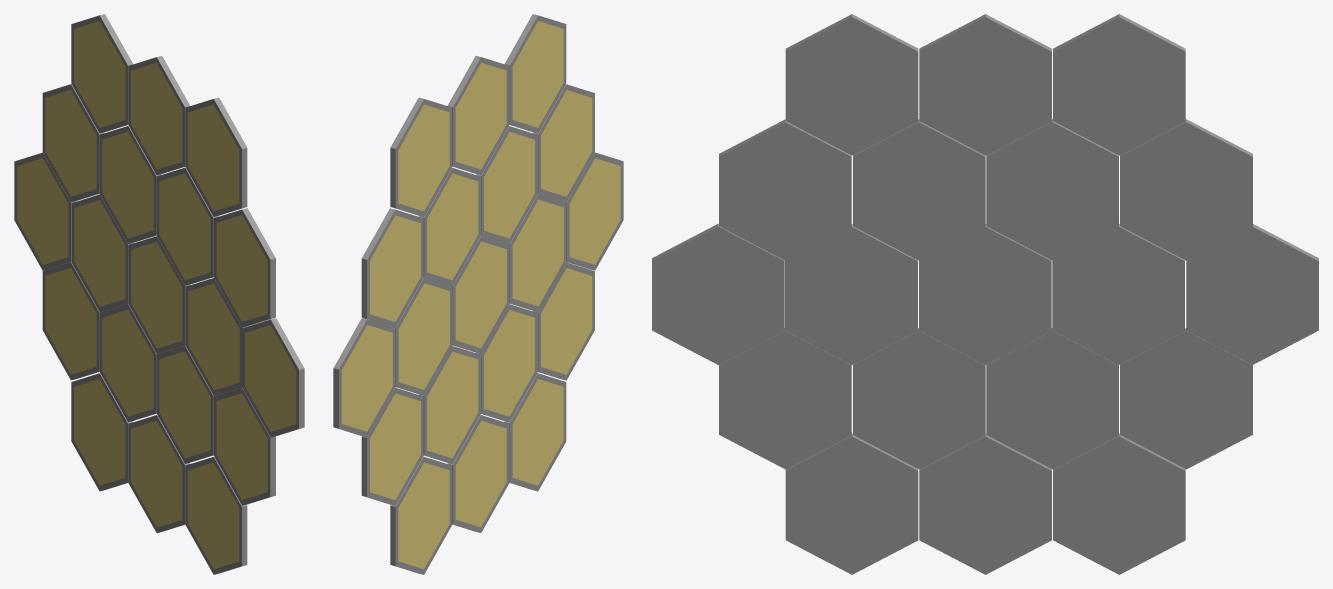
File: Solar_Panel_NoBase.fbx
3 renders of one model, left to right at view 1: azimuth 30°, elevation 25°; view 2: azimuth 150°, elevation 25°; view 3: azimuth 270°, elevation 25°, orthographic. The views are drawn at different scales.
Visible parts, largest first — view 1: GOLD Cone.002; view 2: GOLD Cone.002; view 3: GOLD Cone.002.
Part boxes in pixels (x1,y1,x2,y2): GOLD Cone.002: (14,14,304,574); GOLD Cone.002: (333,14,623,574); GOLD Cone.002: (652,14,1318,574).
Bounding box in the file's own units: 9.72 × 805 × 872.
